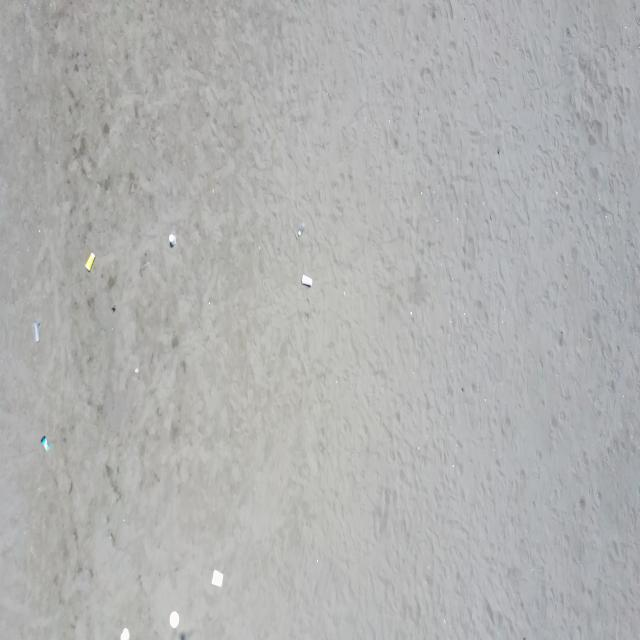take-away-containers: (210, 568, 224, 589), (170, 610, 180, 628), (120, 628, 130, 640)
takeaway-cup: (85, 251, 96, 273), (31, 321, 41, 344), (295, 222, 305, 240), (301, 274, 313, 288), (41, 434, 50, 452), (168, 234, 176, 246)
